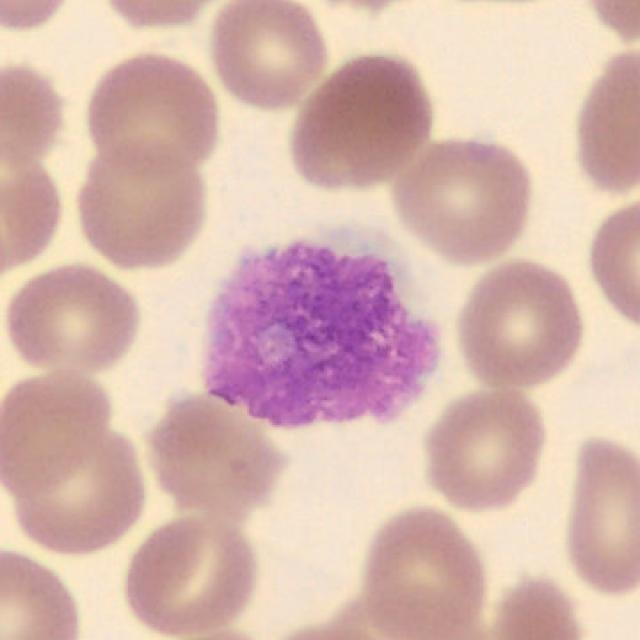Restos celulares: (204, 242, 441, 430)
